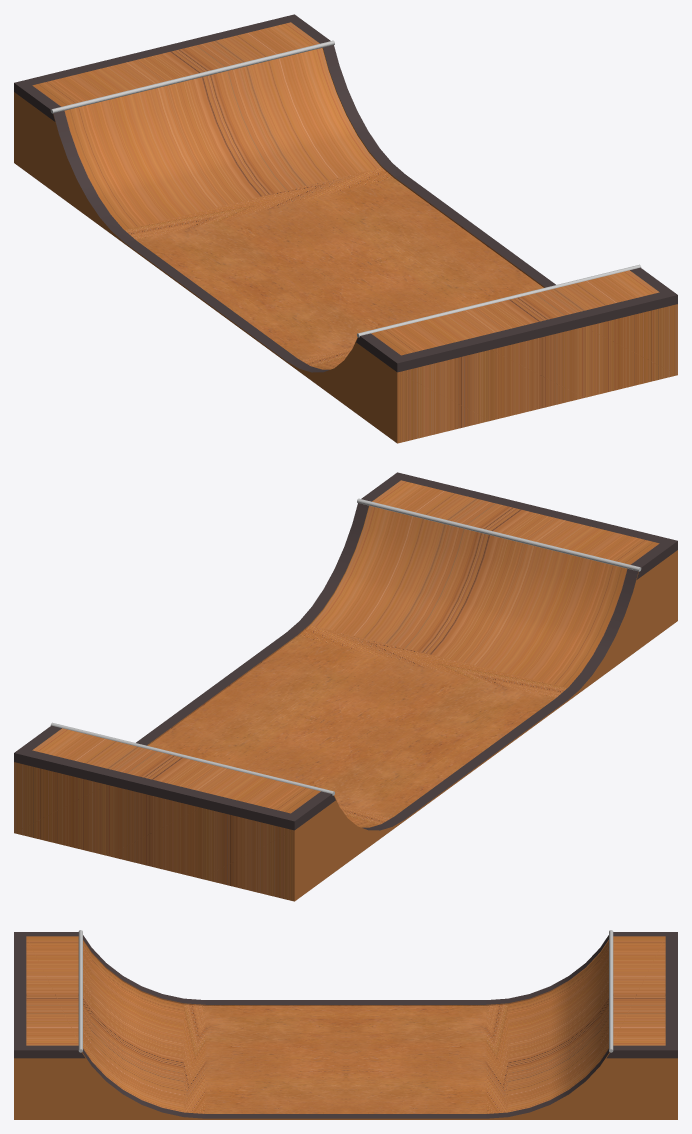
Rendered from spine.glb.
3 renders of one model, top to bottom at view 1: azimuth 30°, elevation 25°; view 2: azimuth 150°, elevation 25°; view 3: azimuth 270°, elevation 25°, orthographic. The views are drawn at different scales.
Visible parts, largest first — view 1: Plane; view 2: Plane; view 3: Plane.
Boxes of the visible parts, bbox=[...] form: Plane: bbox=[14, 14, 677, 443]; Plane: bbox=[14, 472, 677, 901]; Plane: bbox=[14, 930, 677, 1119].
Bounding box in the file's own units: 2.01 × 0.5577 × 4.73.
3 materials, 1 textured.
